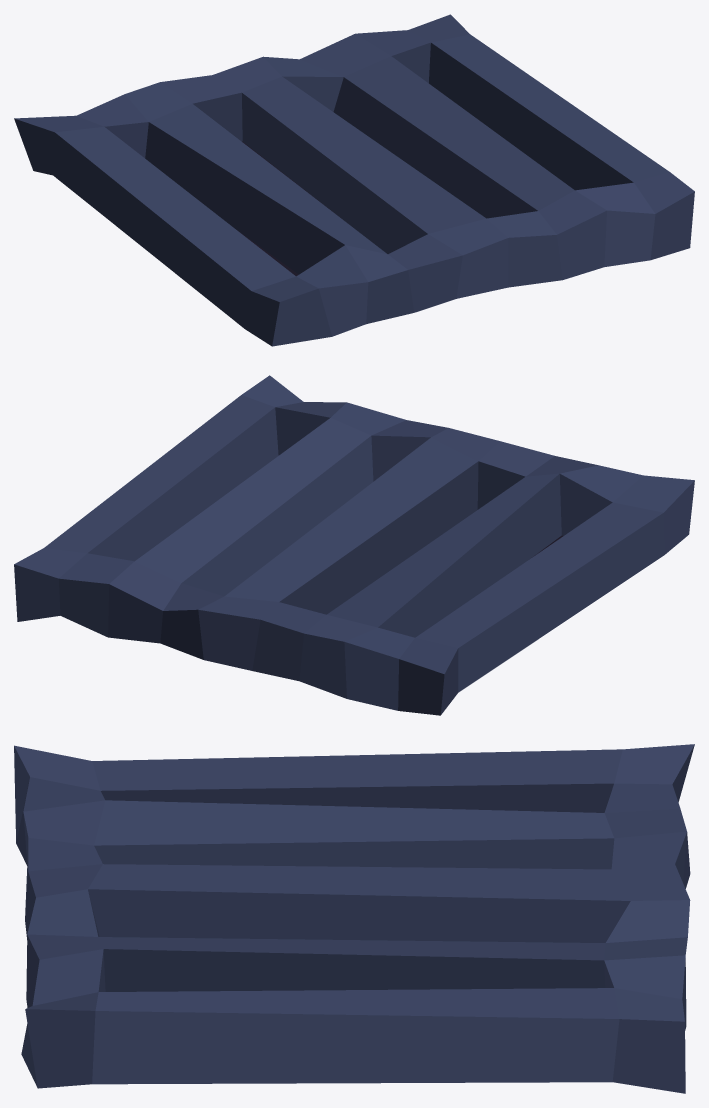
File: grate.glb
The picture shows the model from 3 angles, top to bottom: view 1: azimuth 30°, elevation 25°; view 2: azimuth 150°, elevation 25°; view 3: azimuth 270°, elevation 25°; orthographic projection. The views are drawn at different scales.
Visible parts, largest first — view 1: Grate; view 2: Grate; view 3: Grate.
Part boxes in pixels (x1,y1,x2,y2): Grate: (14, 14, 694, 346); Grate: (14, 375, 694, 715); Grate: (14, 744, 694, 1093).
Bounding box in the file's own units: 0.6989 × 0.101 × 0.7064.
Materials: 1 (1 with a texture image).
